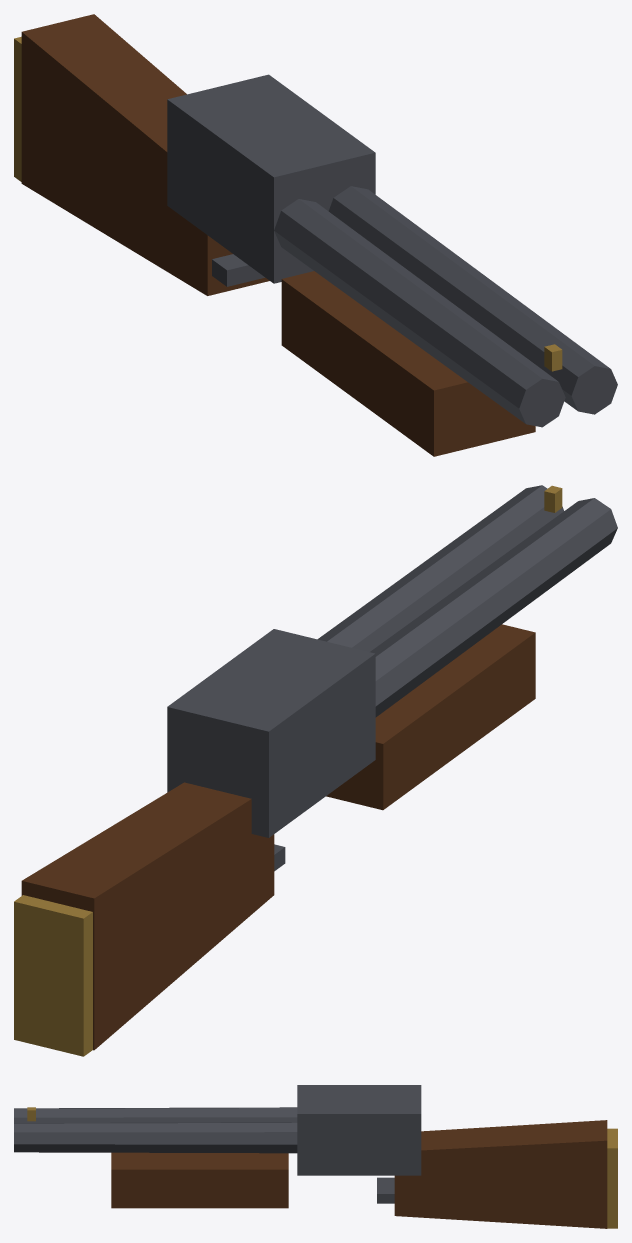
File: shotgun.obj
3 views of the same model, one above another, from view 1: azimuth 30°, elevation 25°; view 2: azimuth 150°, elevation 25°; view 3: azimuth 270°, elevation 25° (orthographic). The views are drawn at different scales.
Bounding box in the file's own units: 0.1463 × 0.2821 × 1.3.
